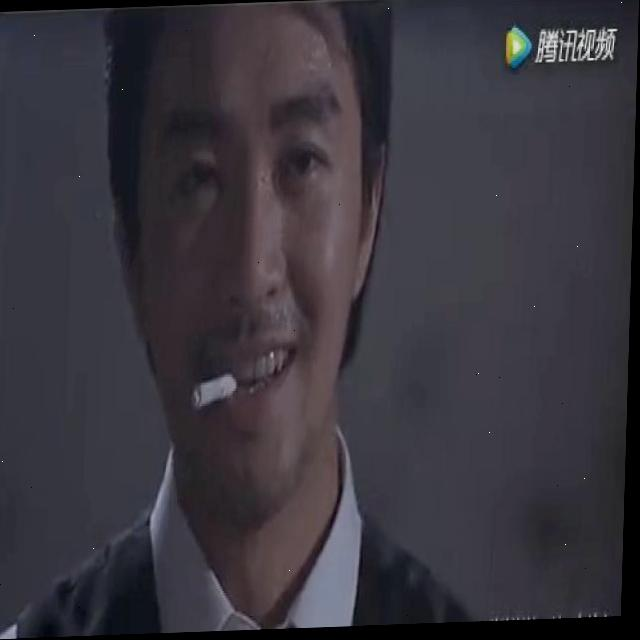cigarette: (194, 374, 241, 411)
